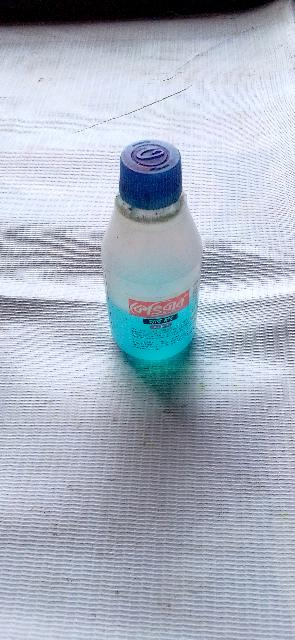bottle: (114, 132, 216, 370)
